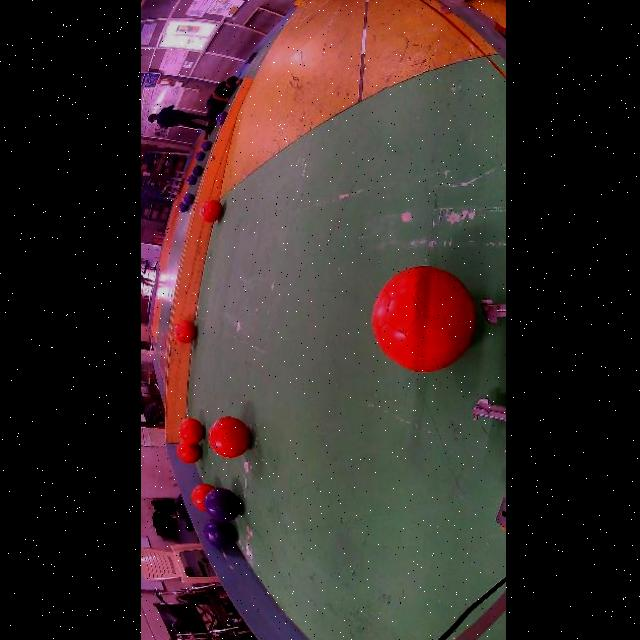P: (201, 488, 239, 522), (201, 519, 234, 547), (214, 112, 227, 124), (181, 193, 192, 206), (199, 141, 210, 151), (177, 202, 187, 212), (185, 175, 195, 185), (194, 151, 203, 161)
R: (370, 267, 474, 372), (207, 418, 248, 457), (177, 418, 202, 444), (190, 484, 212, 512), (174, 441, 200, 463), (172, 320, 195, 343), (197, 199, 220, 222)
